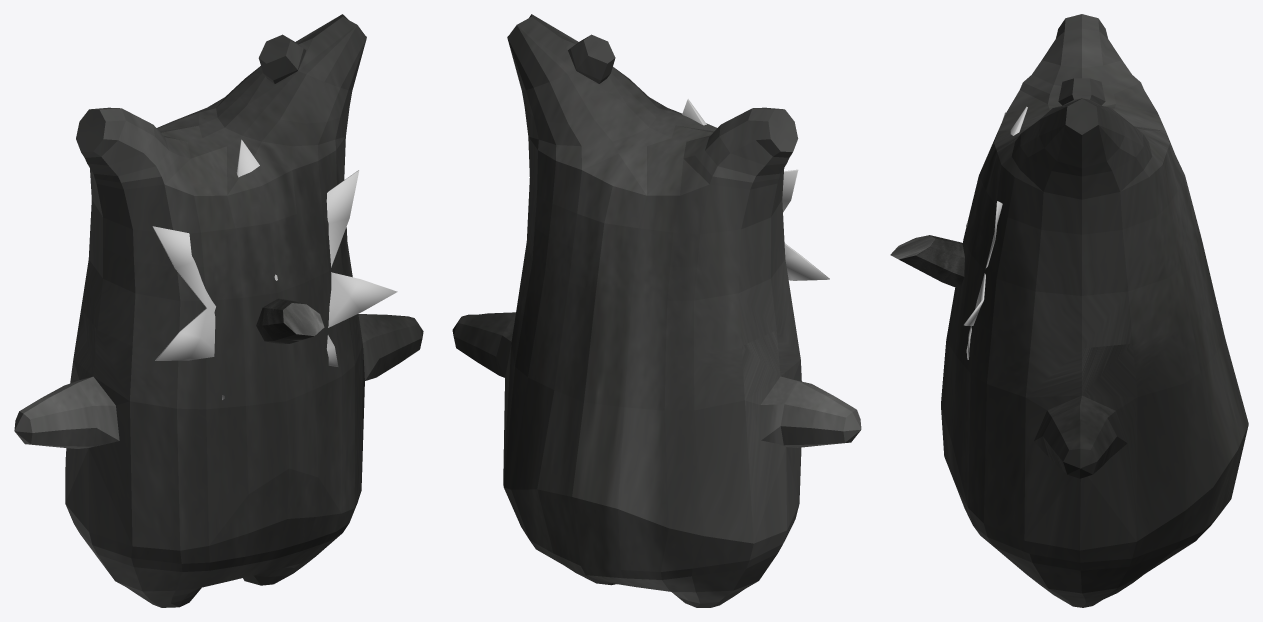
File: frame_0001.obj
The picture shows the model from 3 angles, left to right: view 1: azimuth 30°, elevation 25°; view 2: azimuth 150°, elevation 25°; view 3: azimuth 270°, elevation 25°; orthographic projection.
Parts seen in each view (by area): view 1: korok, leaf.003_柱体.013, nose.003_柱体.011; view 2: korok, leaf.003_柱体.013; view 3: korok, nose.003_柱体.011, leaf.003_柱体.013.
Boxes of the visible parts, x1,y1,x2,y2 form: korok: [14, 14, 423, 607]; leaf.003_柱体.013: [152, 139, 397, 399]; nose.003_柱体.011: [256, 298, 324, 344]; korok: [452, 14, 861, 607]; leaf.003_柱体.013: [682, 99, 829, 280]; korok: [941, 14, 1248, 607]; nose.003_柱体.011: [890, 235, 964, 288]; leaf.003_柱体.013: [964, 106, 1027, 359].
Bounding box in the file's own units: 1.78 × 2.28 × 1.36.
